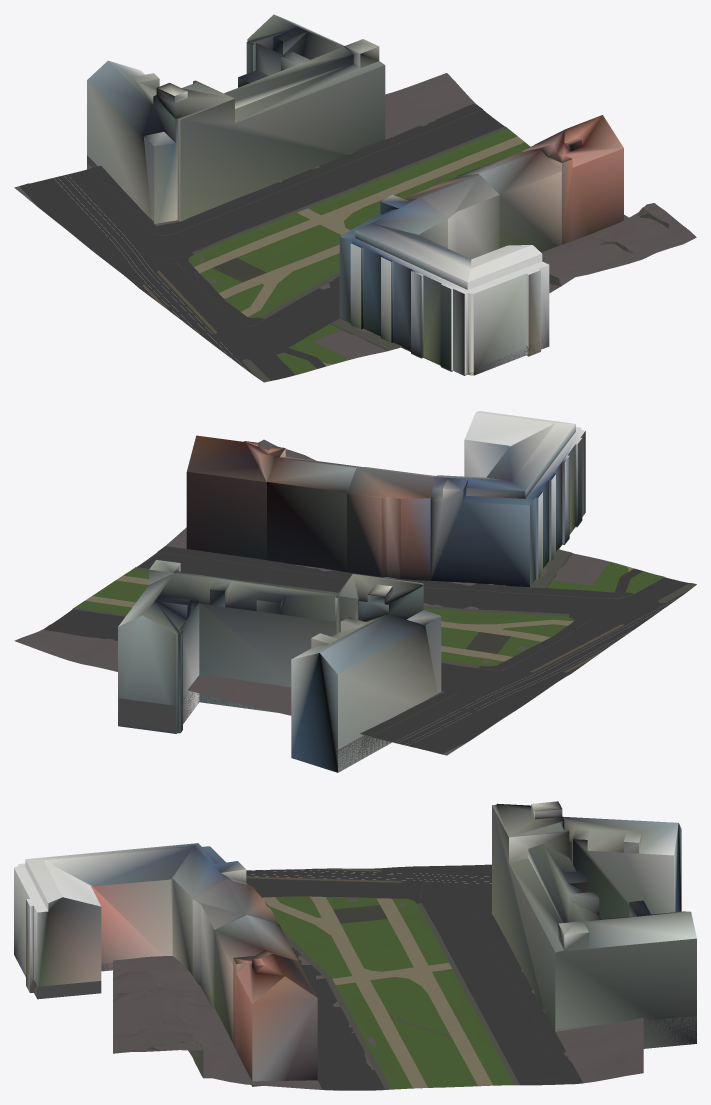
The picture shows the model from 3 angles, top to bottom: view 1: azimuth 30°, elevation 25°; view 2: azimuth 150°, elevation 25°; view 3: azimuth 270°, elevation 25°; orthographic projection. The views are drawn at different scales.
Visible parts, largest first — view 1: c_m13_m07; view 2: c_m13_m07; view 3: c_m13_m07.
Boxes of the visible parts, x1=… form: c_m13_m07: x1=14, y1=14, x2=696, y2=382; c_m13_m07: x1=14, y1=411, x2=696, y2=772; c_m13_m07: x1=14, y1=801, x2=696, y2=1090.
Size of the model in its own units: 128 by 36.84 by 165.
